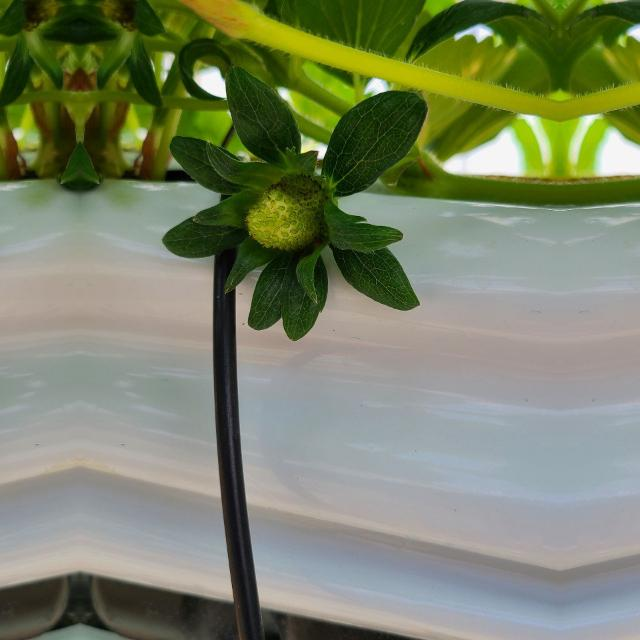Health_25: (248, 174, 328, 250)
